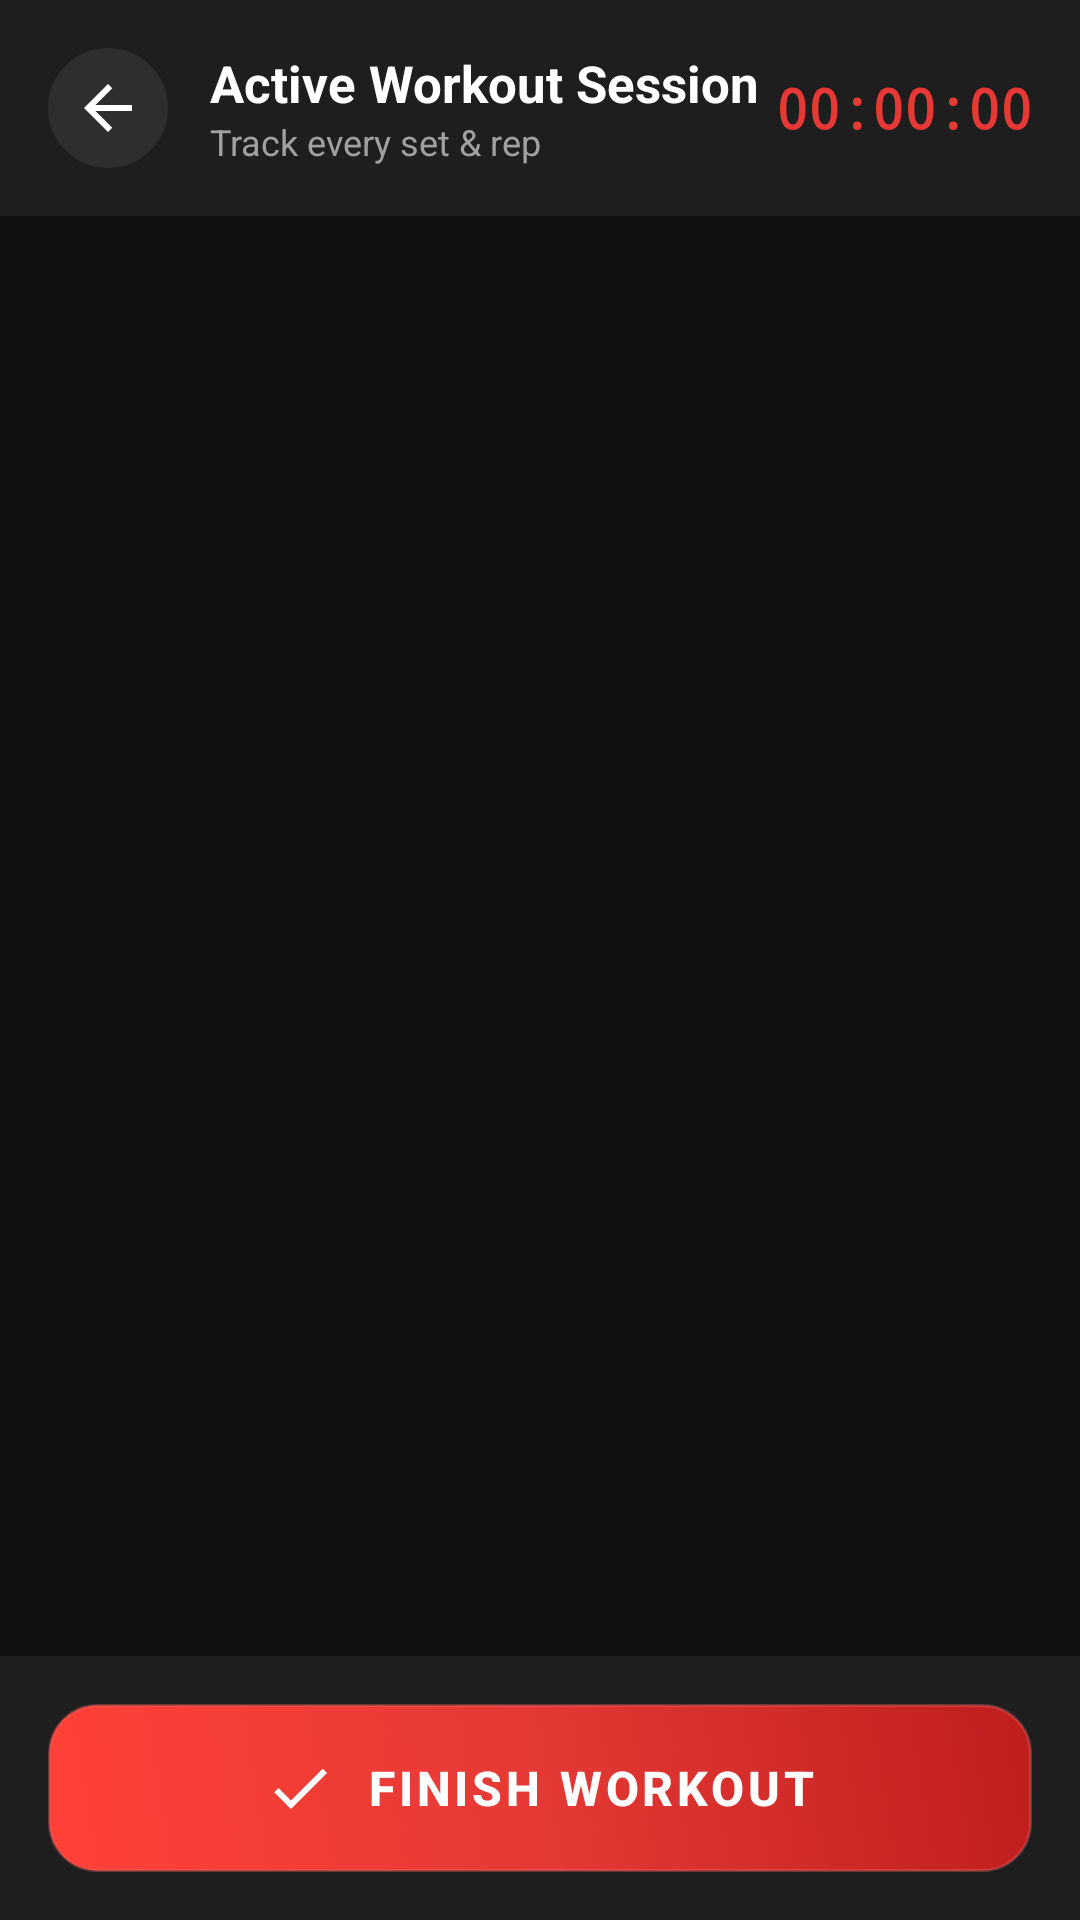

Locate icon controls on the screen. Image size 1080x1920, boxes as bbox(x1, y1, x2, y2).
Cancel Workout: bbox(48, 48, 168, 168)
